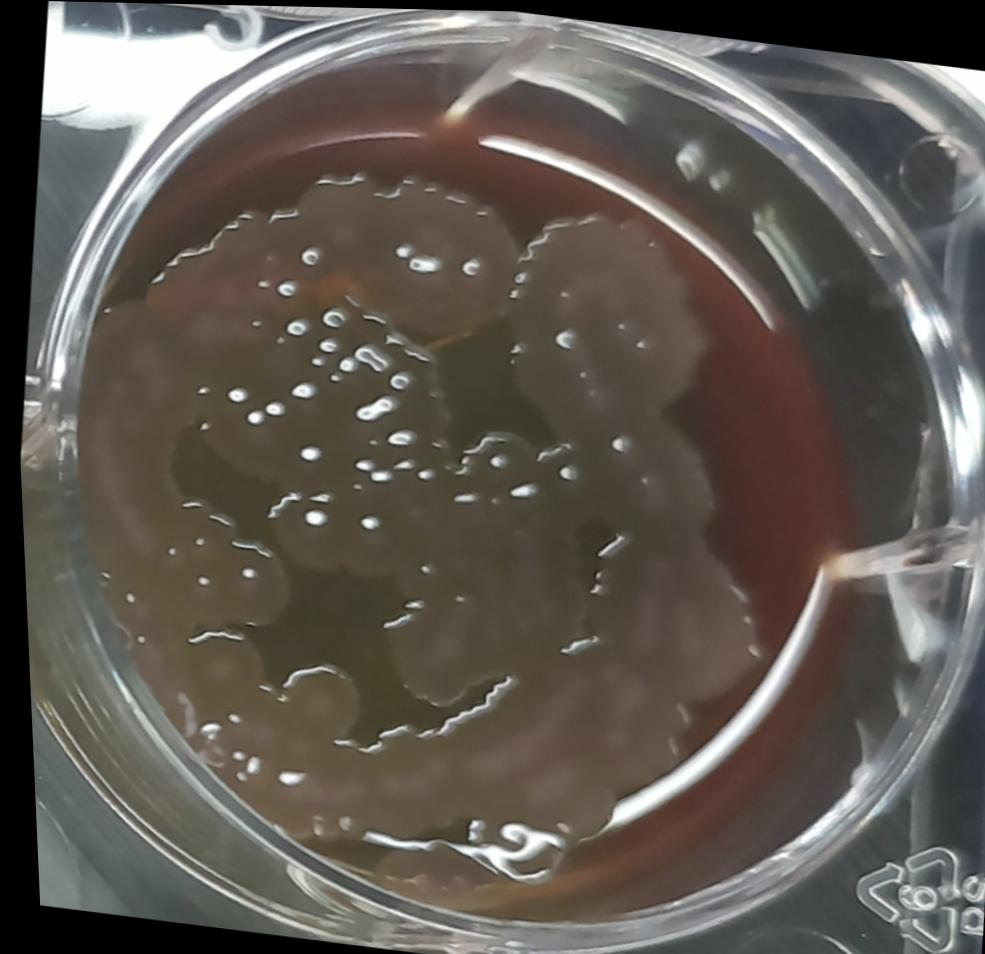vproteolyticus: (492, 194, 722, 416), (563, 525, 769, 703), (352, 163, 520, 344), (557, 402, 733, 534), (360, 590, 490, 719), (310, 479, 422, 587), (193, 531, 303, 639), (260, 648, 368, 744), (162, 617, 267, 713), (251, 484, 347, 577), (447, 419, 545, 497)
